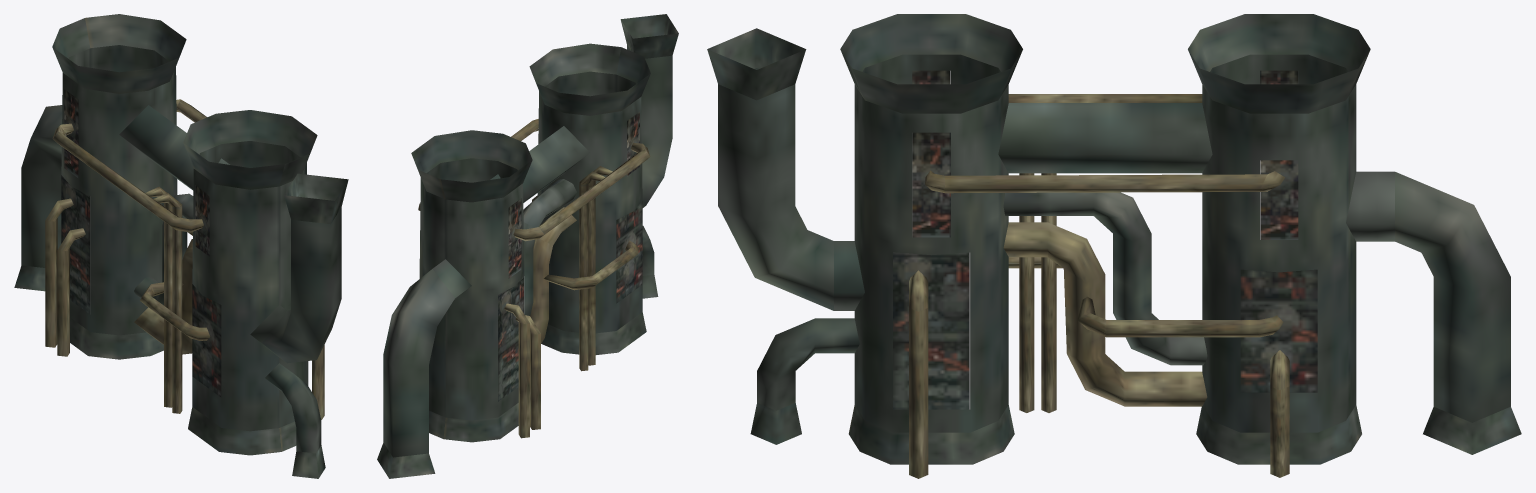
Rendered from bunker_mine_pipes_s02_l2.fbx.
The picture shows the model from 3 angles, left to right: view 1: azimuth 30°, elevation 25°; view 2: azimuth 150°, elevation 25°; view 3: azimuth 270°, elevation 25°; orthographic projection. The views are drawn at different scales.
Visible parts, largest first — view 1: mesh_node; view 2: mesh_node; view 3: mesh_node.
Part boxes in pixels (x1,y1,x2,y2): mesh_node: (14, 14, 348, 478); mesh_node: (377, 14, 678, 478); mesh_node: (707, 14, 1521, 478).
Size of the model in its own units: 2.83 by 5.5 by 10.55.
1 material, 1 textured.
